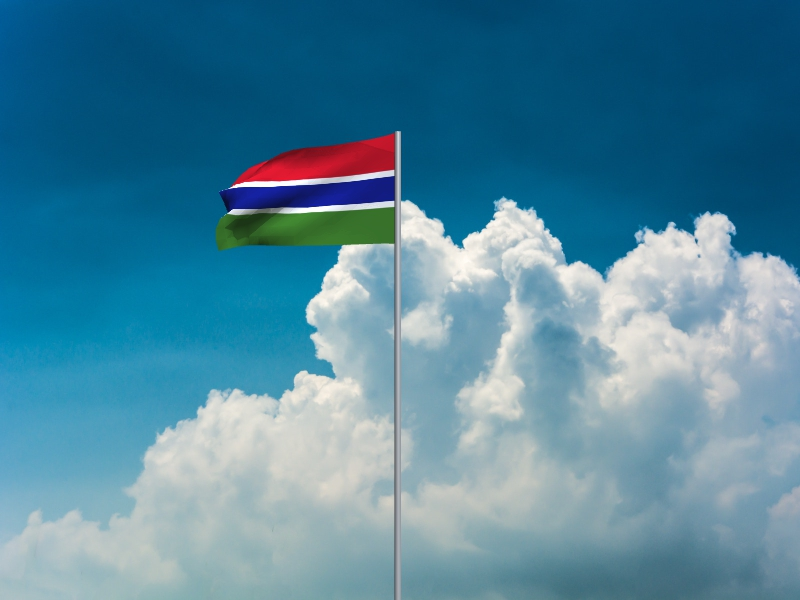gm: (215, 134, 395, 253)
